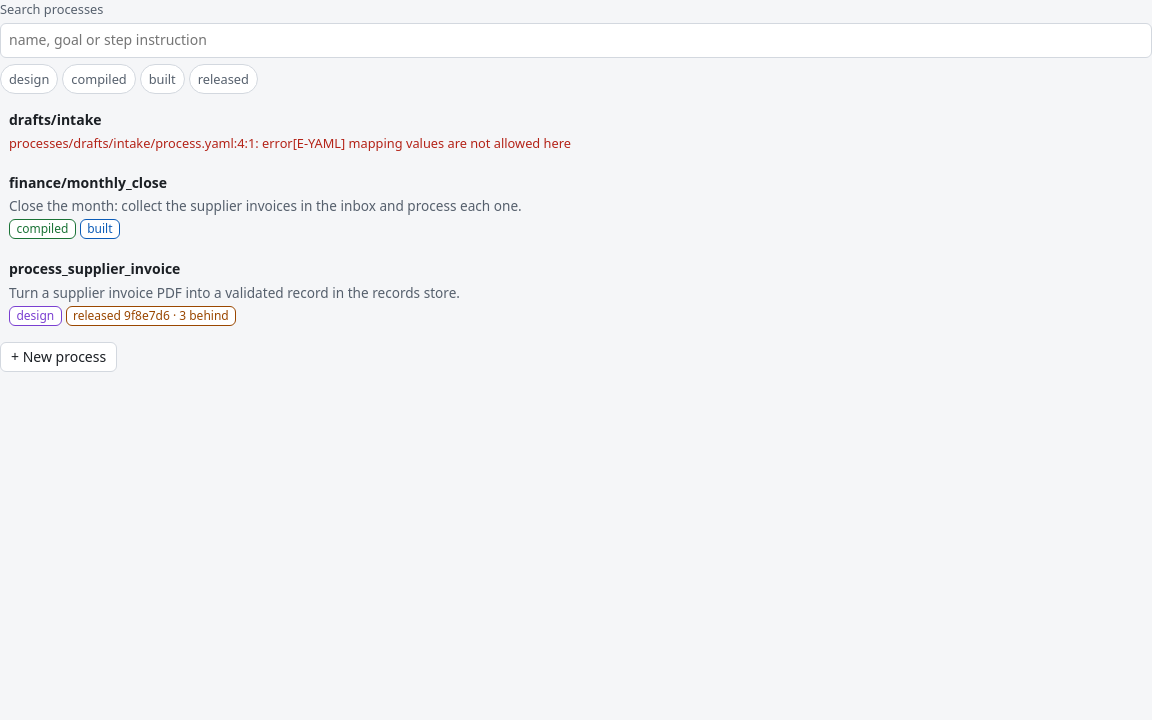
Test case: ProcessList › New process: checks the id, creates, refreshes the list and opens it
expect the text "process_supplier_invoice" is shown: met, box 9,259 -> 180,280
Click the button "+ New process" at (59, 357), box 0,342 -> 117,372
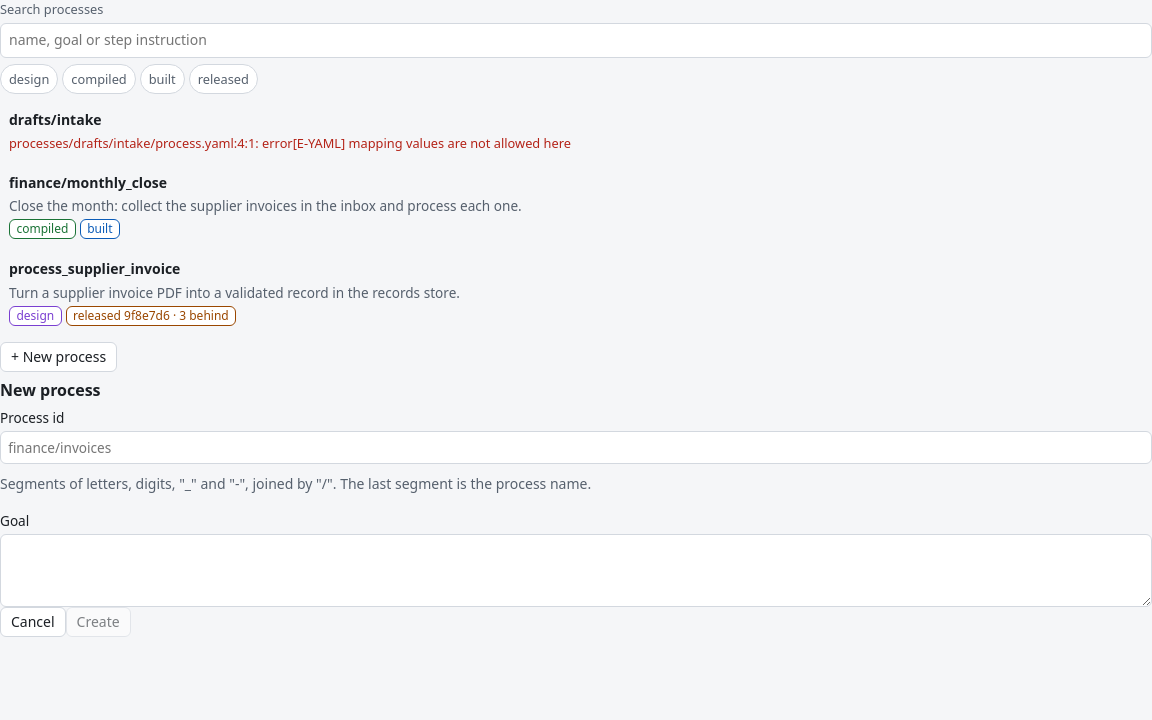
expect the button "Create" is disabled: met, box 66,607 -> 131,637
Type "finance//x" into the field labelled "Process id" at (576, 448), box 0,431 -> 1151,464
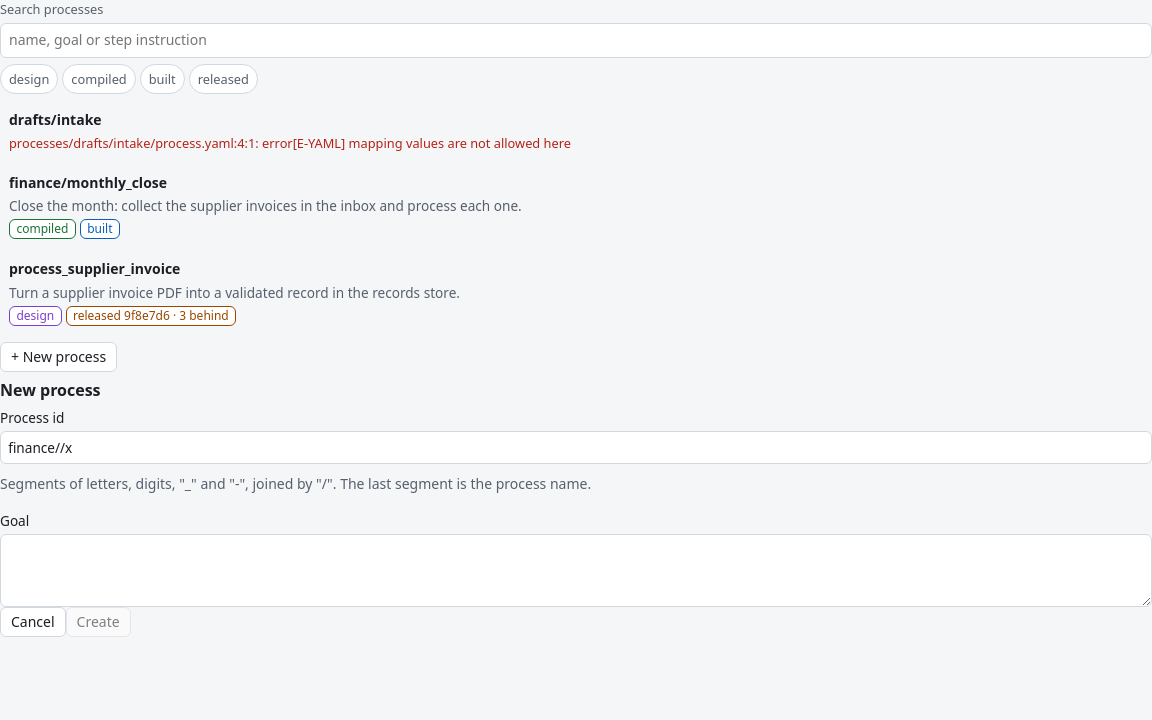
expect the button "Create" is disabled: met, box 66,607 -> 131,637
Replace the text in the field labelled "Process id" with "finance/invoices" at (576, 448), box 0,431 -> 1151,464
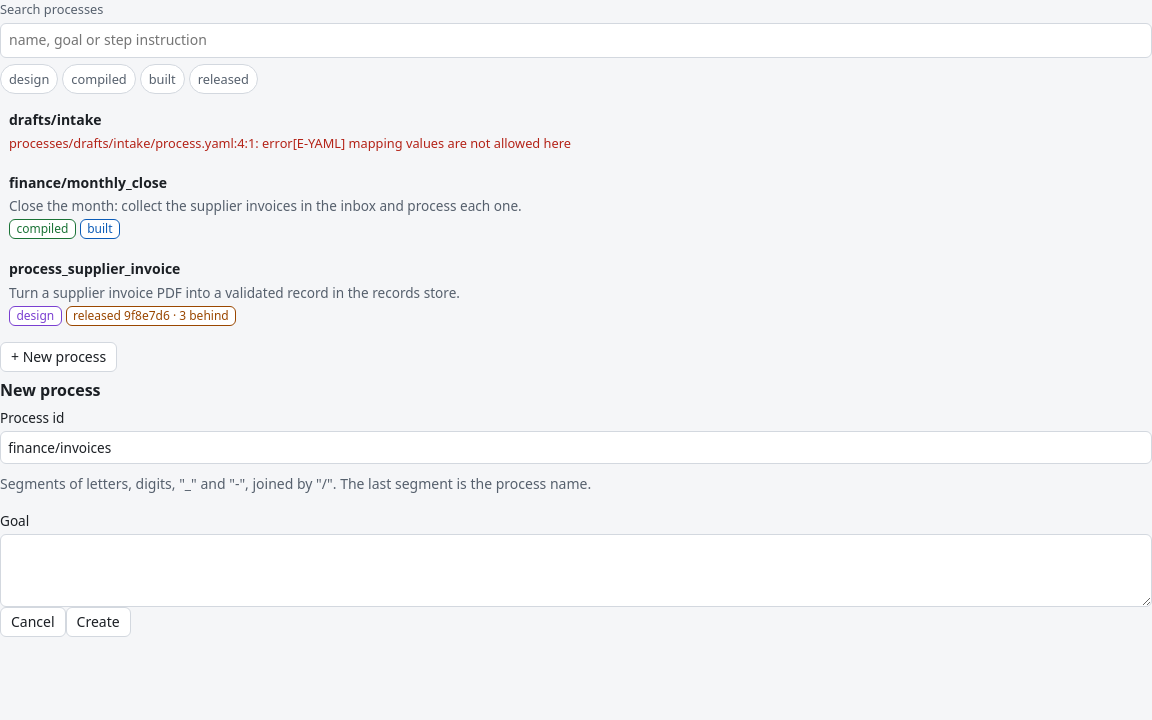
Type " Pay suppliers " into the text box labelled "Goal" at (576, 571), box 0,534 -> 1151,607
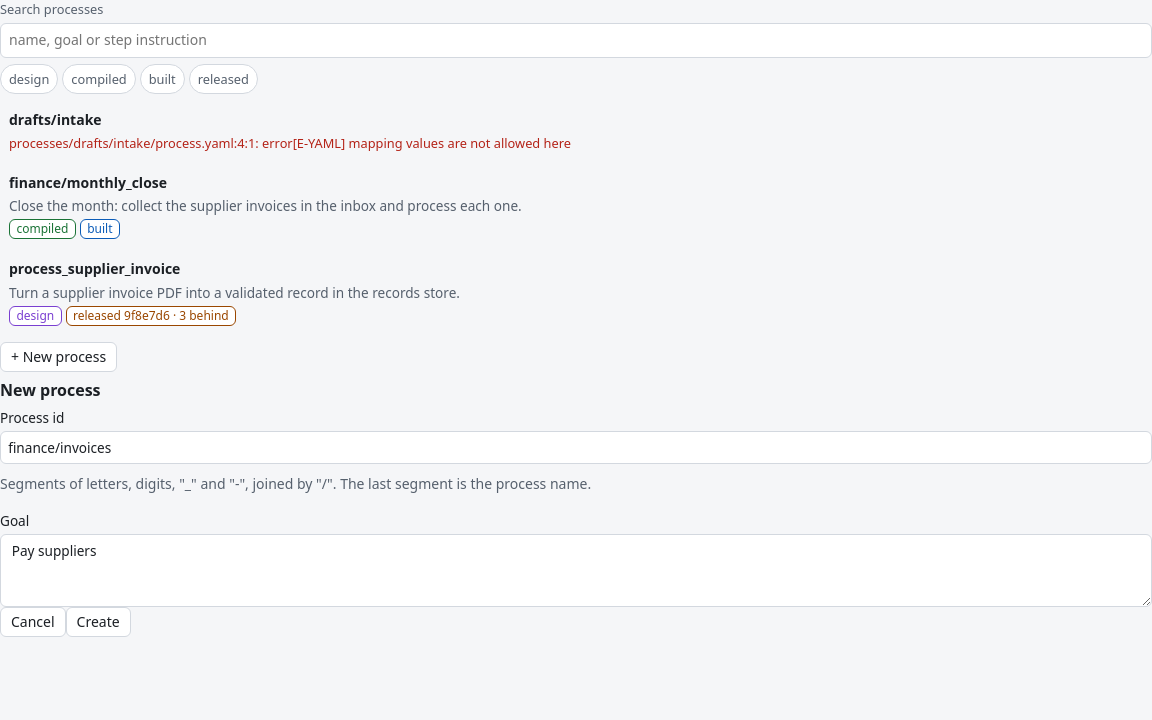
Click the button "Create" at (98, 622), box 66,607 -> 131,637
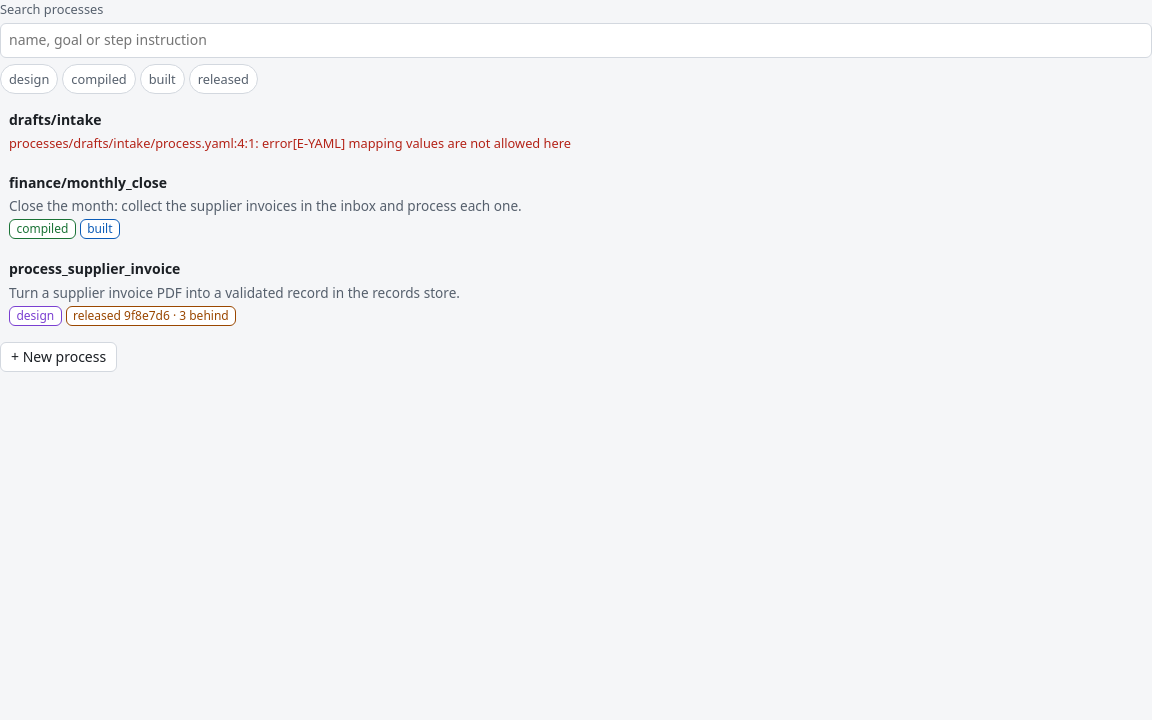
expect the dialog is gone: met
